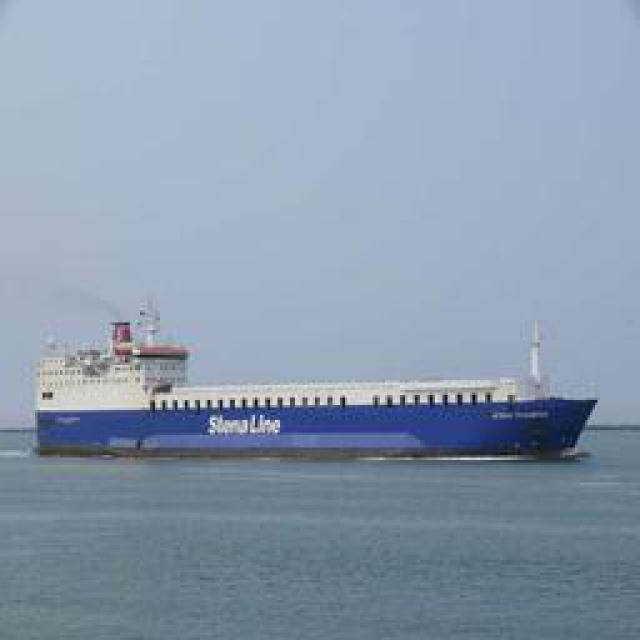Ship: (36, 306, 596, 459)
